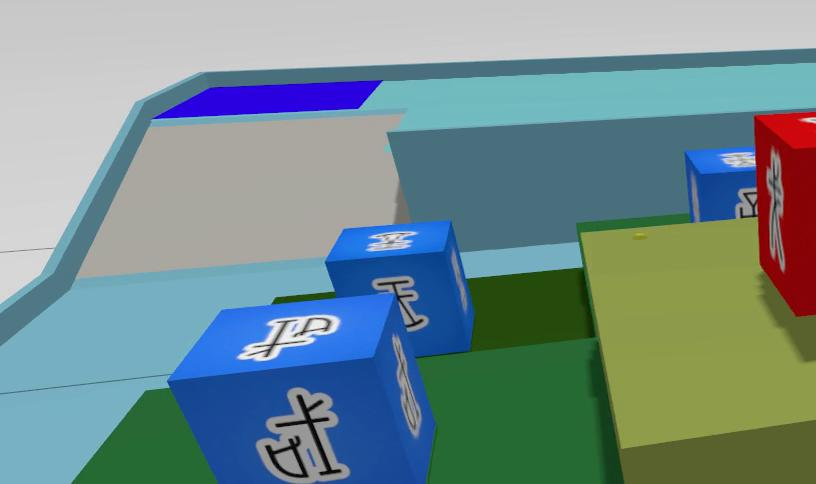KFS_FAKE: (755, 111, 816, 314), (766, 149, 784, 269), (801, 117, 816, 124)
KFS_REAL: (169, 290, 436, 484), (325, 222, 473, 354), (257, 388, 348, 483), (686, 145, 756, 221), (239, 314, 340, 361), (393, 335, 421, 436)
